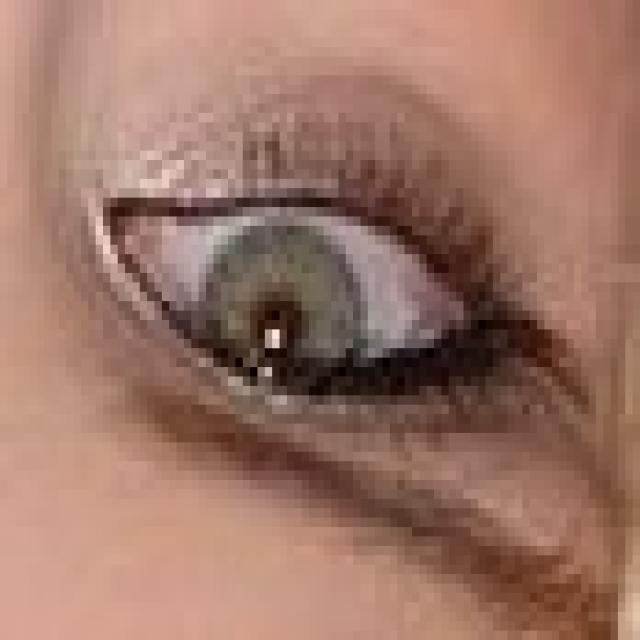Normal: (199, 216, 359, 418)
